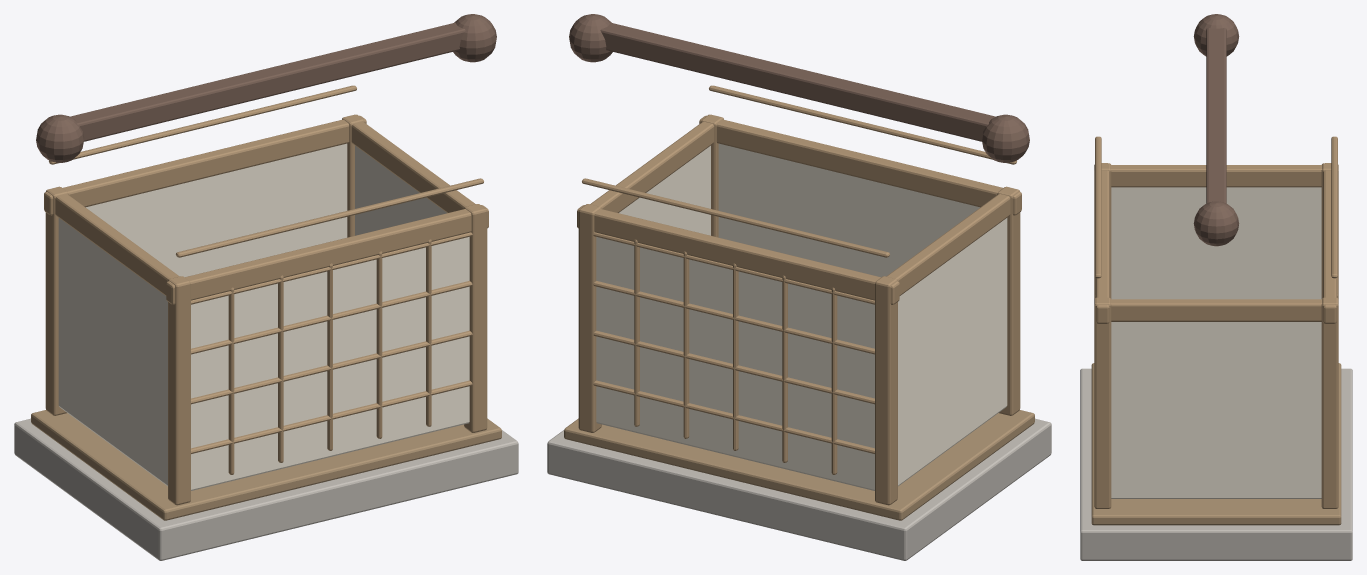
The model's file is kominka_a.glb.
3 views of the same model, side by side, from view 1: azimuth 30°, elevation 25°; view 2: azimuth 150°, elevation 25°; view 3: azimuth 270°, elevation 25° (orthographic). The views are drawn at different scales.
Parts seen in each view (by area): view 1: Kominka_A; view 2: Kominka_A; view 3: Kominka_A.
Boxes of the visible parts, x1,y1,x2,y2 form: Kominka_A: (14,14,518,560); Kominka_A: (547,14,1051,560); Kominka_A: (1080,14,1352,560).
Size of the model in its own units: 4.3 by 3.6 by 2.4.
